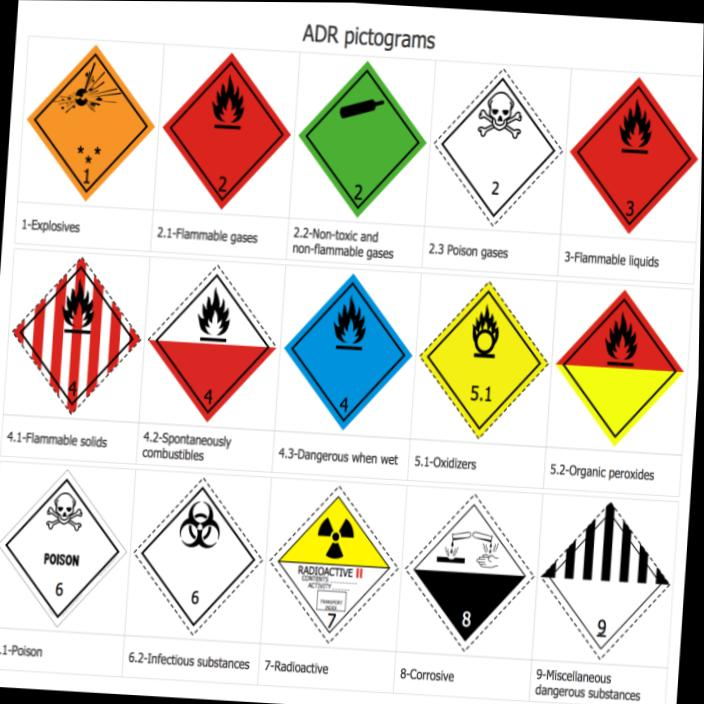bathroom sign: (28, 46, 152, 198)
bench: (164, 54, 288, 207)
building map: (299, 62, 424, 215)
camera: (434, 69, 561, 224)
can and bottle trash cans: (572, 77, 696, 232)
chair: (13, 259, 138, 412)
charging station: (150, 268, 273, 420)
clock: (285, 274, 410, 428)
defibrillator: (420, 282, 546, 437), (556, 290, 682, 444)
door: (0, 470, 124, 624)
doors: (135, 478, 259, 633)
doorway: (271, 487, 396, 641)
elevator buttons: (407, 495, 532, 650)
elevator doors: (542, 502, 668, 657)
